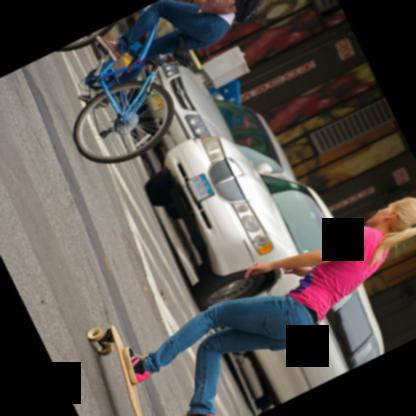backpack: (233, 0, 264, 25)
